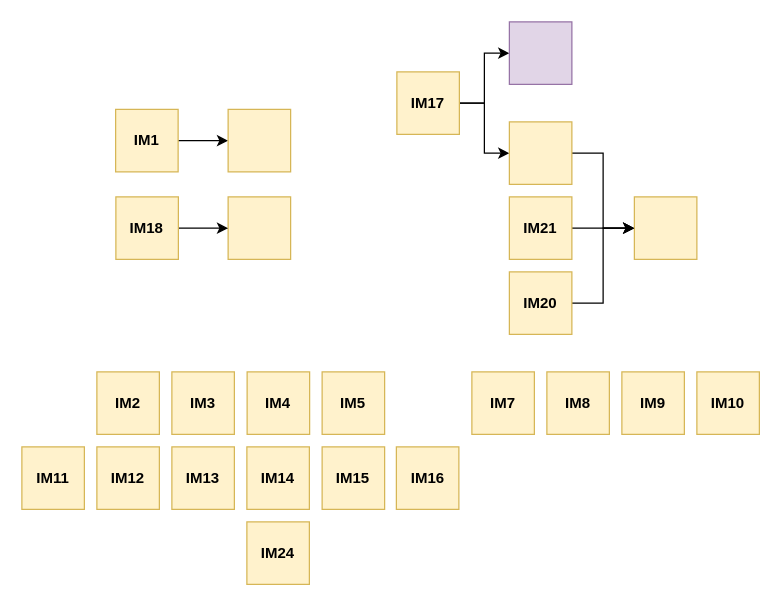
Image size: 781x606. Some labels were removed from this diagram. Here are the shapes that lost their labels. From the top down, the centre of each, then its label:
At (540,52): "TY3".
At (259,140): "IM6".
At (540,152): "IM22".
At (259,227): "IM19".
At (665,227): "IM23".
